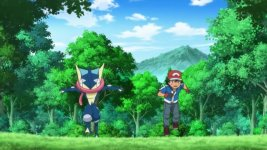greninja: (59, 64, 124, 138)
